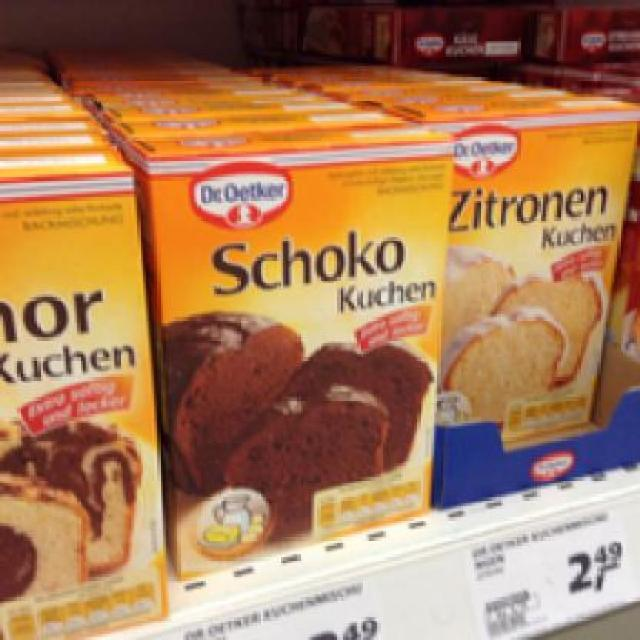Cake: (130, 125, 444, 566), (0, 159, 155, 638), (422, 103, 638, 443)
